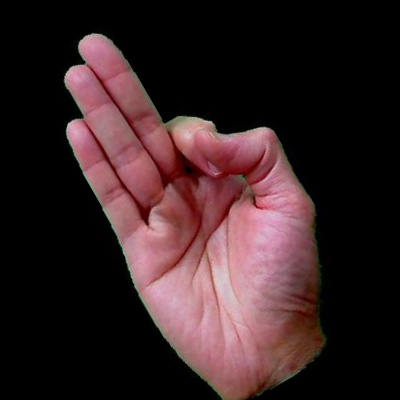f: (1, 8, 400, 396)
